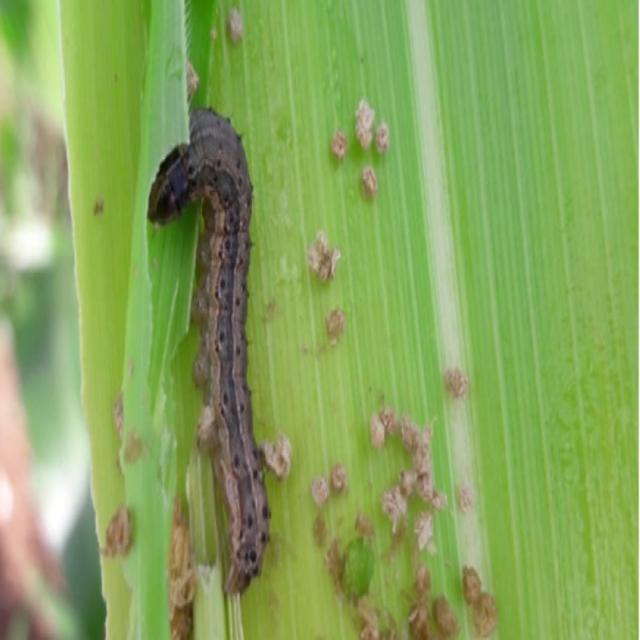armyworm: (147, 103, 270, 590)
